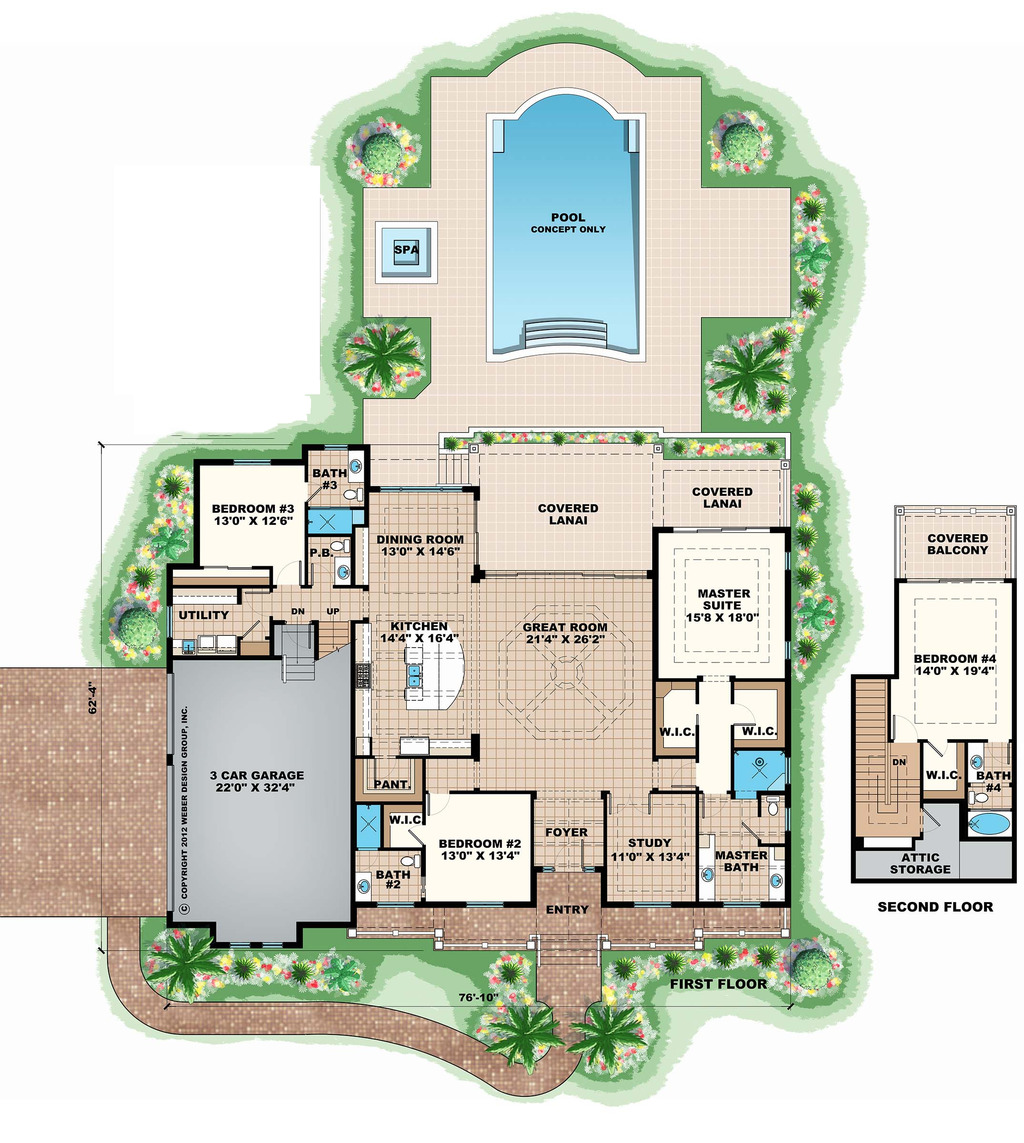kitchen_bar: (404, 639, 470, 714)
small_sink: (332, 554, 358, 584), (347, 450, 366, 478)
stairs: (853, 676, 922, 838), (272, 616, 348, 687), (962, 806, 1012, 842)
windows: (622, 895, 672, 914)
